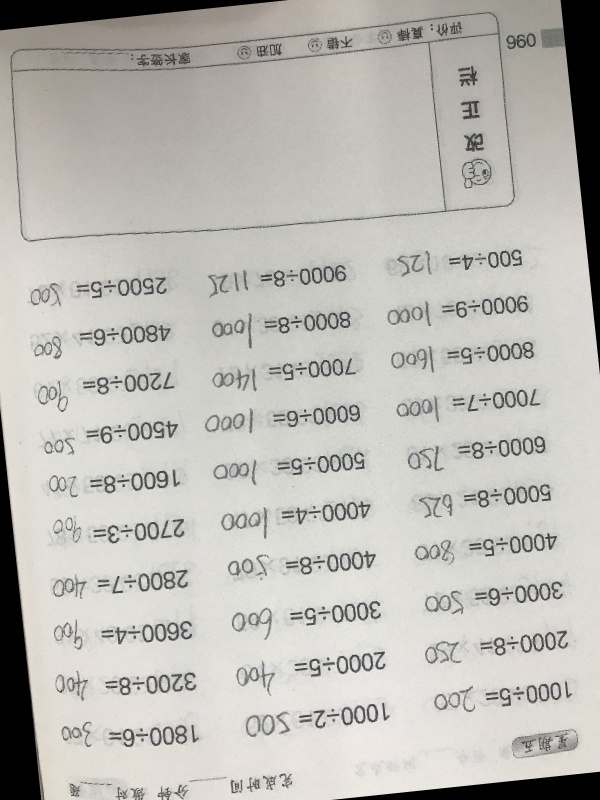equation: (208, 301, 354, 346), (217, 498, 374, 539), (61, 708, 200, 754), (52, 661, 199, 702), (229, 602, 385, 640), (236, 653, 388, 692), (395, 385, 541, 425), (224, 546, 380, 583), (52, 612, 196, 651), (382, 291, 531, 328), (33, 372, 178, 410), (49, 507, 186, 547), (203, 400, 362, 434), (209, 453, 368, 487), (403, 436, 549, 473), (429, 676, 574, 713), (423, 631, 571, 667), (390, 340, 537, 376), (209, 358, 362, 392), (47, 563, 191, 599), (203, 260, 350, 295), (241, 701, 391, 735), (420, 580, 565, 615), (390, 242, 525, 279), (28, 323, 174, 357), (407, 484, 553, 518), (27, 275, 170, 309), (38, 419, 181, 453), (43, 464, 182, 498), (412, 530, 560, 561)
